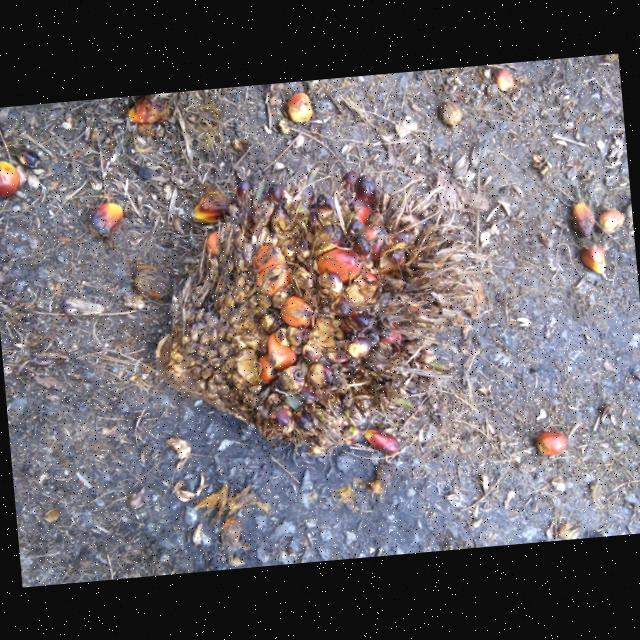Overripe: (170, 161, 452, 445)
